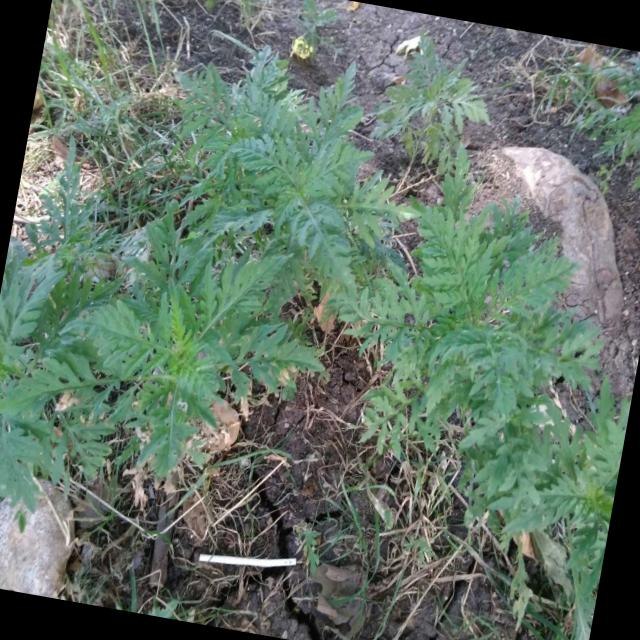ambrosia: (0, 191, 287, 498), (385, 205, 626, 530), (190, 58, 432, 310)
